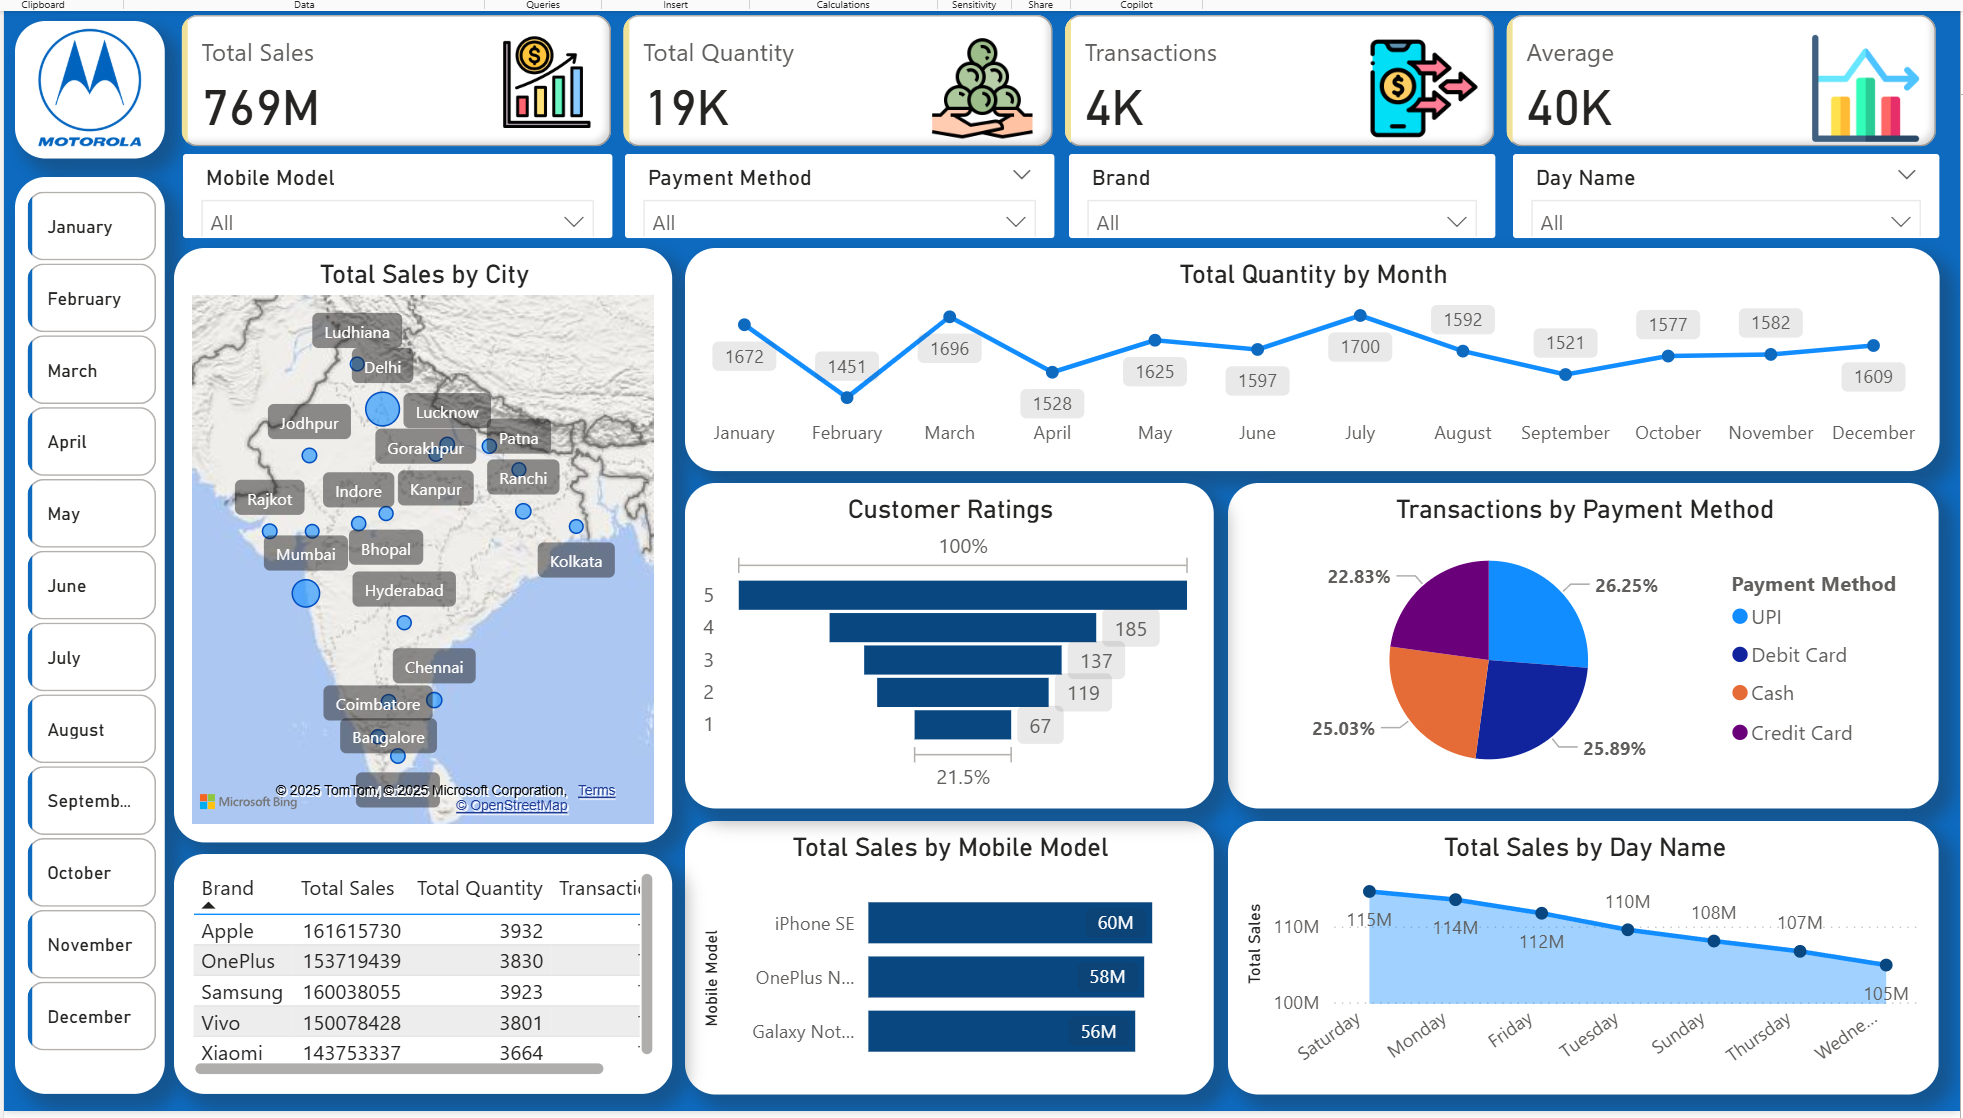

This screenshot's page, from the dashboard's own definition file:
{"tool":"powerbi","page":{"name":"Page 1","canvas":[1280,720],"ordinal":0},"visuals":[{"type":"shape","box":[7.2,6.5,98.2,90.3],"z":0},{"type":"image","box":[7.2,6.5,97.5,87],"z":1000},{"type":"shape","box":[7.2,108.6,98.2,600.1],"z":2000},{"type":"advancedSlicerVisual","fields":{"Values":["Sales_Data.Date.Variation.Date Hierarchy.Month"]},"box":[10.5,113.2,94.9,578.5],"z":3000},{"type":"cardVisual","fields":{"Data":["Sales_Data.Total Sales","Sales_Data.Total Quantity","Sales_Data.Transactions","Sales_Data.Average"]},"box":[111.2,2.6,1161.6,97.5],"z":4000},{"type":"map","fields":{"Category":["Sales_Data.City"],"Size":["Sales_Data.Total Sales"]},"box":[111.2,155.1,325.9,389.4],"z":5000},{"type":"lineChart","fields":{"Y":["Sales_Data.Total Quantity"],"Category":["Sales_Data.Date.Variation.Date Hierarchy.Month","Sales_Data.Date.Variation.Date Hierarchy.Day"]},"box":[445.6,155.1,820.6,145.9],"z":6000},{"type":"barChart","fields":{"Category":["Sales_Data.Mobile Model"],"Y":["Sales_Data.Total Sales"]},"box":[445.6,530.1,345.5,178.7],"z":7000},{"type":"pieChart","fields":{"Category":["Sales_Data.Payment Method"],"Y":["Sales_Data.Transactions"]},"box":[801,308.9,465.3,212.7],"z":8000},{"type":"funnel","title":" Customer Ratings","fields":{"Category":["Sales_Data.Customer Ratings"],"Y":["CountNonNull(Sales_Data.Customer Ratings)"]},"box":[445.6,308.9,345.5,212.7],"z":9000},{"type":"areaChart","fields":{"Category":["Sales_Data.Day Name"],"Y":["Sales_Data.Total Sales"]},"box":[801,530.1,465.3,178.7],"z":10000},{"type":"tableEx","fields":{"Values":["Sales_Data.Brand","Sales_Data.Total Sales","Sales_Data.Total Quantity","Sales_Data.Transactions"]},"box":[111.2,551.7,325.9,157.1],"z":11000},{"type":"slicer","fields":{"Values":["Sales_Data.Mobile Model"]},"box":[117.1,93.6,280.7,55],"z":12000},{"type":"slicer","fields":{"Values":["Sales_Data.Brand"]},"box":[696.9,93.6,278.8,55],"z":13000},{"type":"slicer","fields":{"Values":["Sales_Data.Payment Method"]},"box":[406.4,93.6,280.7,55],"z":14000},{"type":"slicer","fields":{"Values":["Sales_Data.Day Name"]},"box":[987.5,93.6,278.8,55],"z":15000}]}

Visuals, with their boxes in screenshot pixels (x1, y1, x2, y2):
shape: (left=6, top=5, right=160, bottom=147)
image: (left=6, top=5, right=159, bottom=141)
shape: (left=6, top=165, right=160, bottom=1106)
advancedSlicerVisual - Sales_Data.Date.Variation.Date Hierarchy.Month: (left=11, top=172, right=160, bottom=1079)
cardVisual - Sales_Data.Total Sales x Sales_Data.Total Quantity: (left=169, top=0, right=1962, bottom=152)
map - Sales_Data.City x Sales_Data.Total Sales: (left=169, top=238, right=680, bottom=849)
lineChart - Sales_Data.Total Quantity x Sales_Data.Date.Variation.Date Hierarchy.Month: (left=694, top=238, right=1962, bottom=467)
barChart - Sales_Data.Mobile Model x Sales_Data.Total Sales: (left=694, top=826, right=1235, bottom=1106)
pieChart - Sales_Data.Payment Method x Sales_Data.Transactions: (left=1251, top=479, right=1962, bottom=813)
" Customer Ratings" funnel: (left=694, top=479, right=1235, bottom=813)
areaChart - Sales_Data.Day Name x Sales_Data.Total Sales: (left=1251, top=826, right=1962, bottom=1106)
tableEx - Sales_Data.Brand x Sales_Data.Total Sales: (left=169, top=860, right=680, bottom=1106)
slicer - Sales_Data.Mobile Model: (left=179, top=142, right=619, bottom=228)
slicer - Sales_Data.Brand: (left=1088, top=142, right=1525, bottom=228)
slicer - Sales_Data.Payment Method: (left=632, top=142, right=1072, bottom=228)
slicer - Sales_Data.Day Name: (left=1543, top=142, right=1962, bottom=228)
